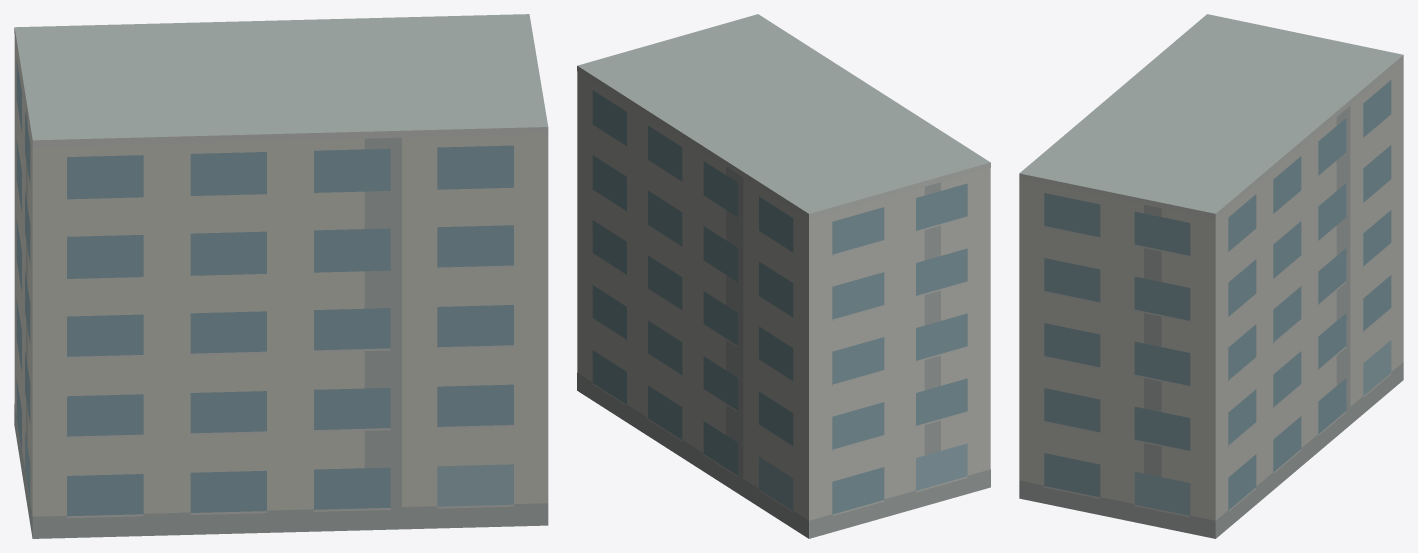
Rendered from survey-upis-32943195.glb.
3 views of the same model, side by side, from view 1: azimuth 30°, elevation 25°; view 2: azimuth 150°, elevation 25°; view 3: azimuth 270°, elevation 25° (orthographic). The views are drawn at different scales.
Parts seen in each view (by area): view 1: survey-upis-32943195.tmp; view 2: survey-upis-32943195.tmp; view 3: survey-upis-32943195.tmp.
Part boxes in pixels (x1=…): survey-upis-32943195.tmp: x1=14, y1=14, x2=548, y2=538; survey-upis-32943195.tmp: x1=577, y1=14, x2=990, y2=538; survey-upis-32943195.tmp: x1=1019, y1=14, x2=1403, y2=538.
Bounding box in the file's own units: 18.59 × 14.1 × 15.12.
